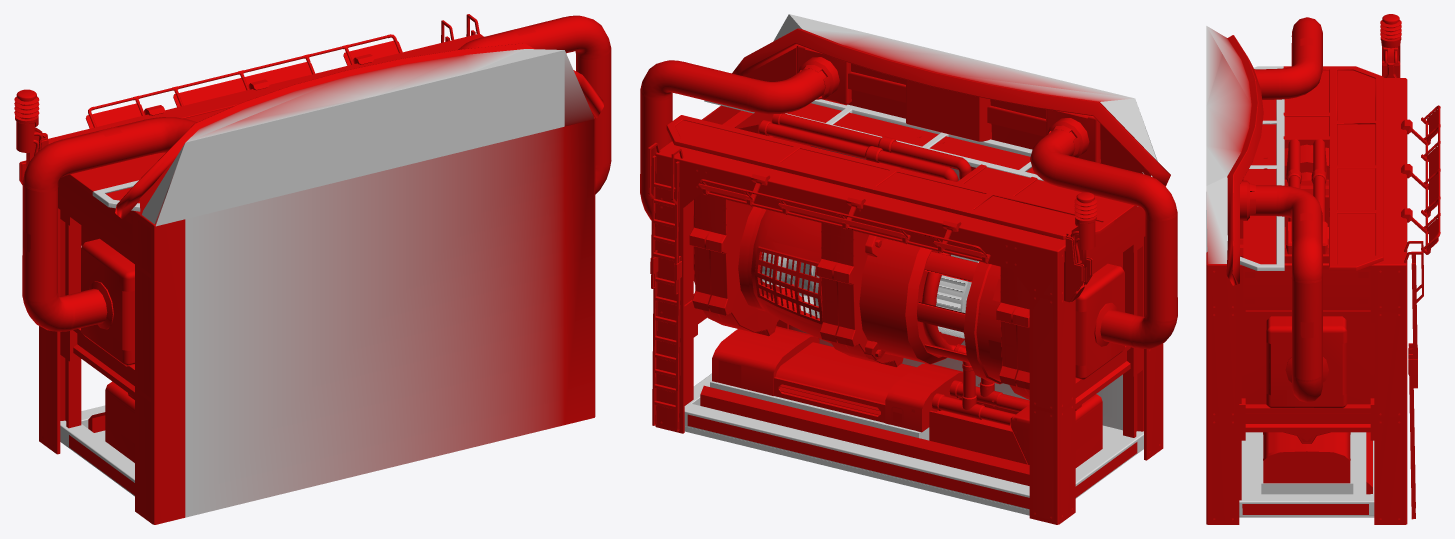
Rendered from FluidEngine.fbx.
The picture shows the model from 3 angles, left to right: view 1: azimuth 30°, elevation 25°; view 2: azimuth 150°, elevation 25°; view 3: azimuth 270°, elevation 25°; orthographic projection. The views are drawn at different scales.
Parts seen in each view (by area): view 1: SM_Generator_Nuclear; view 2: SM_Generator_Nuclear; view 3: SM_Generator_Nuclear.
Boxes of the visible parts, <box> form: SM_Generator_Nuclear: <box>14,14,611,524</box>; SM_Generator_Nuclear: <box>640,14,1177,524</box>; SM_Generator_Nuclear: <box>1206,14,1440,524</box>.
Size of the model in its own units: 1597 by 995 by 639.
